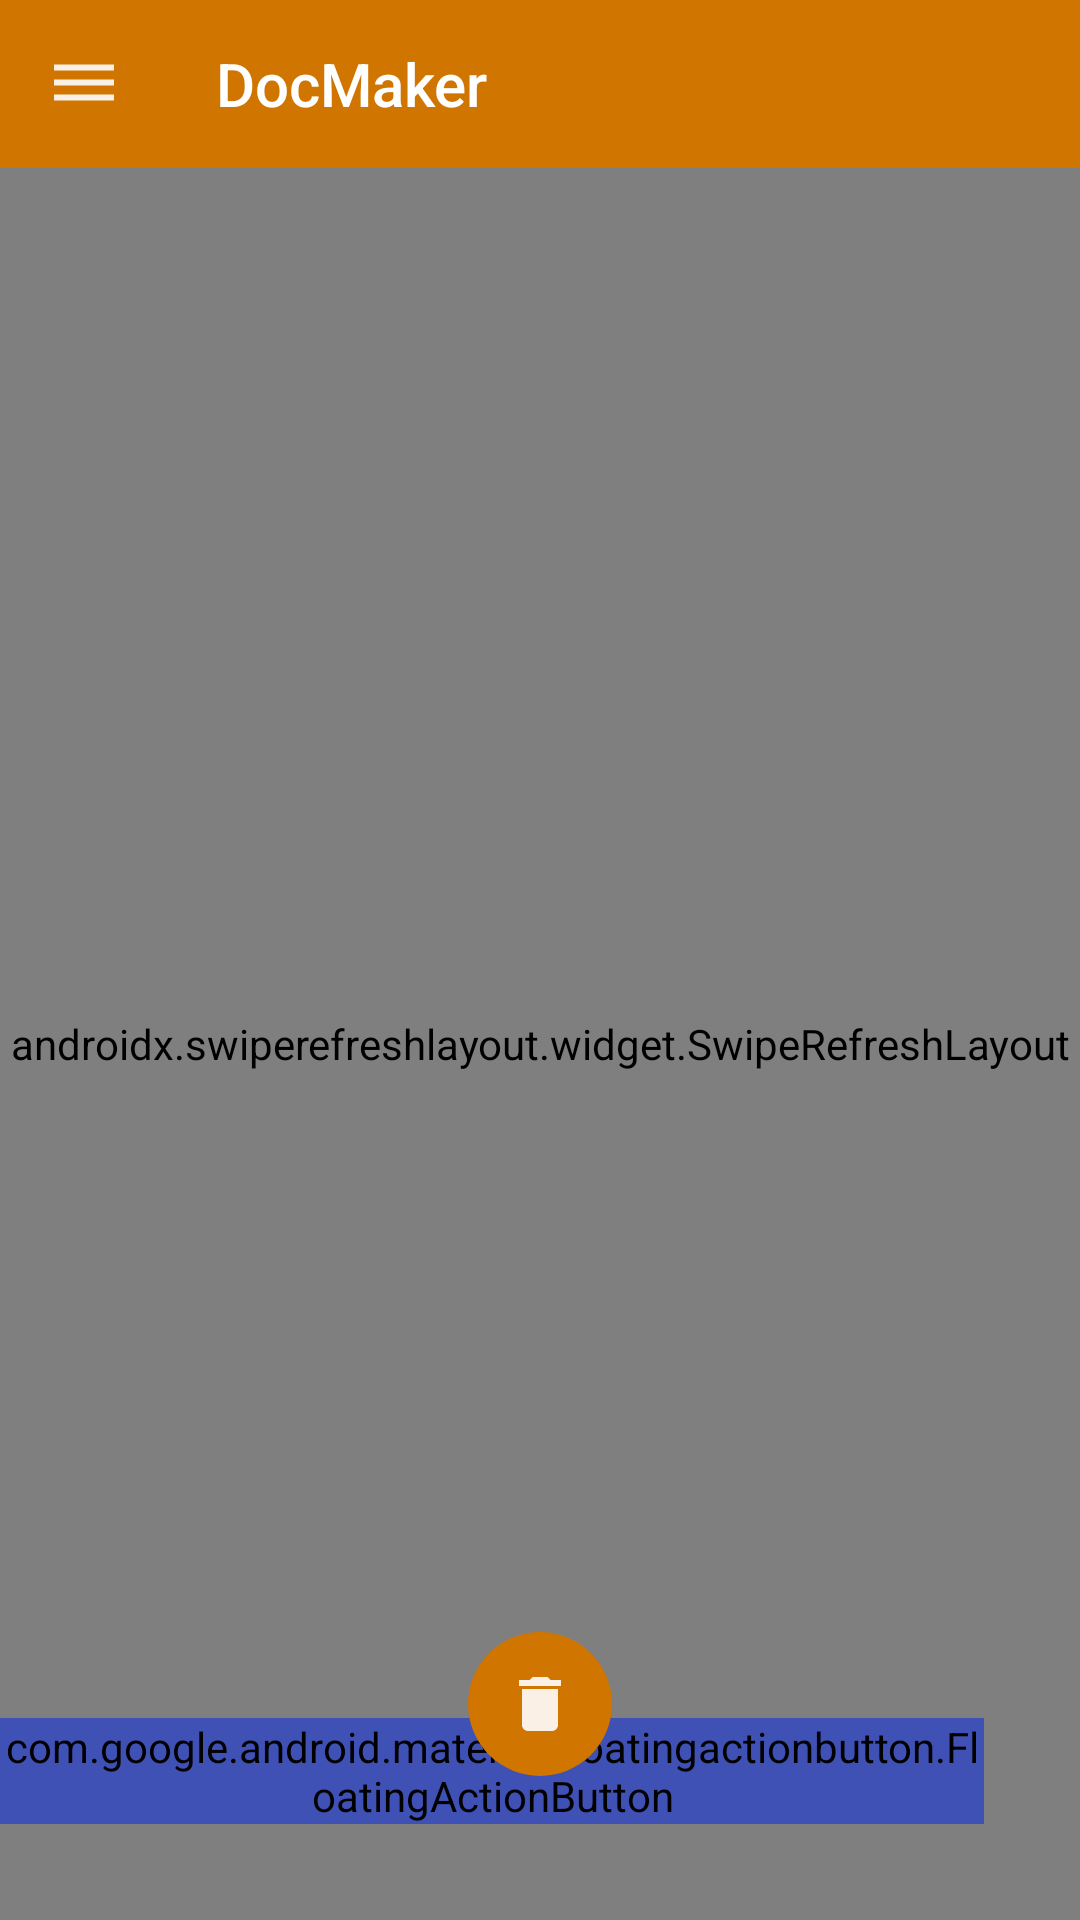

Icon click points for this 1080w x 1920h phone screenshot, format (x=x, y=y):
Delete selected documents: (x=540, y=1704)
